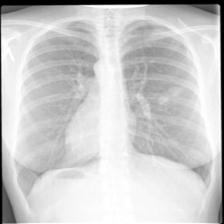tuberculosis: (11, 18, 215, 224)
